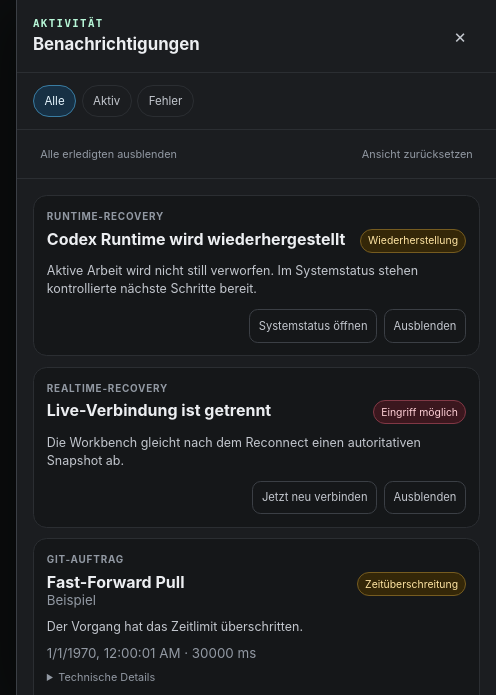
it: shows recovery notices and dismisses every completed job in one action
This screenshot has width=496, height=695.
expect the text "Codex Runtime wird wiederhergestellt" is shown: met, box x1=47 y1=229 x2=345 y2=249
expect the text "Live-Verbindung ist getrennt" is shown: met, box x1=47 y1=400 x2=271 y2=420
Click the button "Alle erledigten ausblenden". click: (109, 154)
box: x1=33 y1=139 x2=184 y2=169
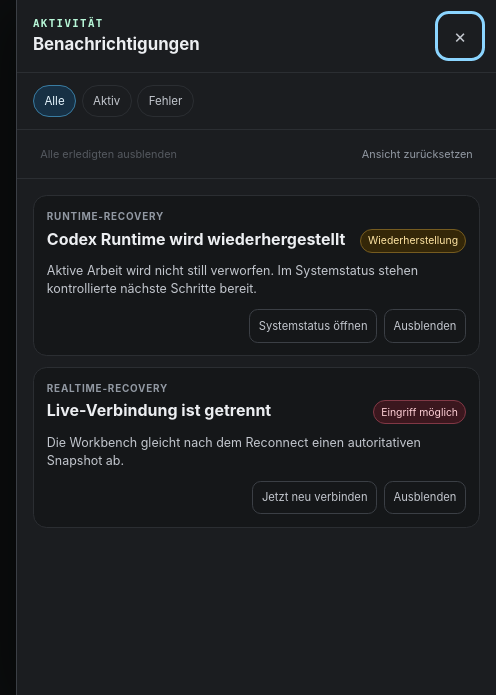
expect the text "Fast-Forward Pull" is gone: met
